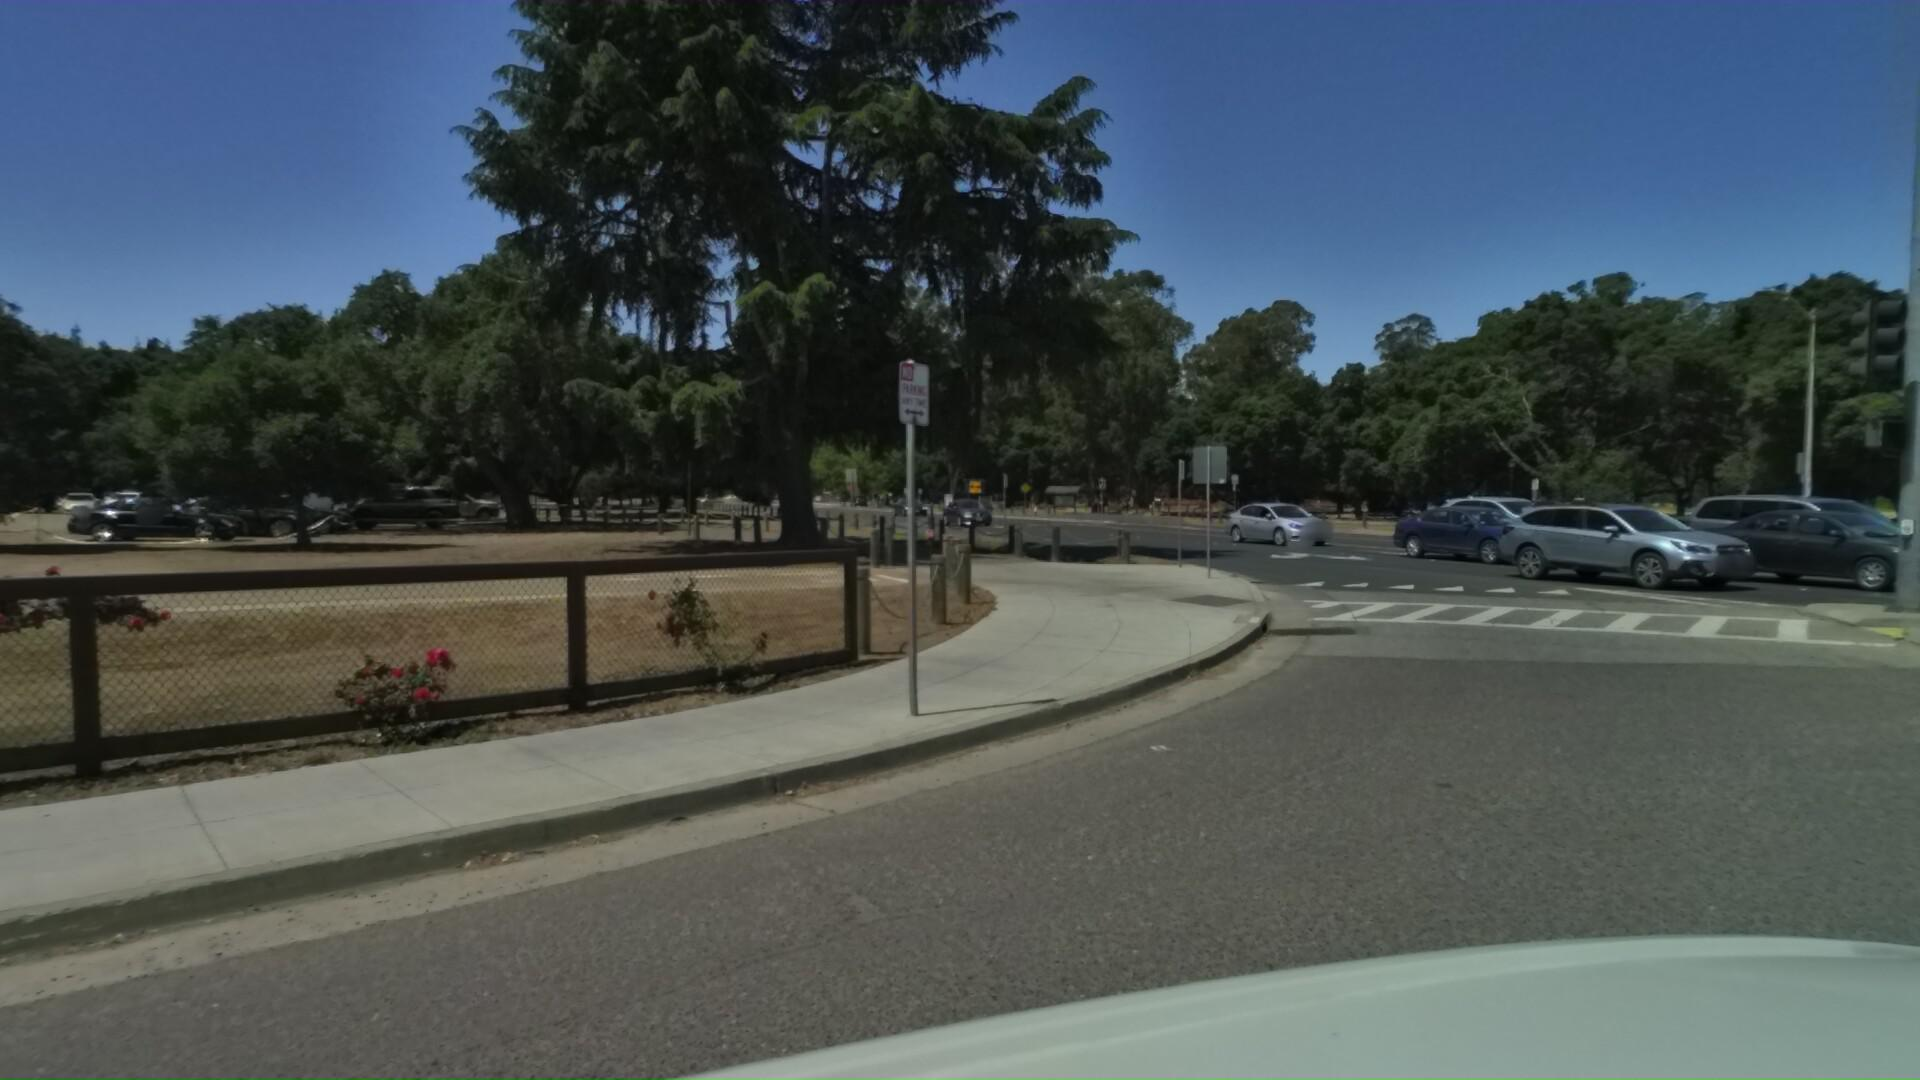car: (1498, 493, 1793, 593), (1675, 488, 1920, 592), (1691, 502, 1920, 609), (1391, 501, 1592, 574), (1429, 492, 1611, 560), (1226, 498, 1357, 553), (948, 500, 1005, 534), (895, 501, 934, 524)
